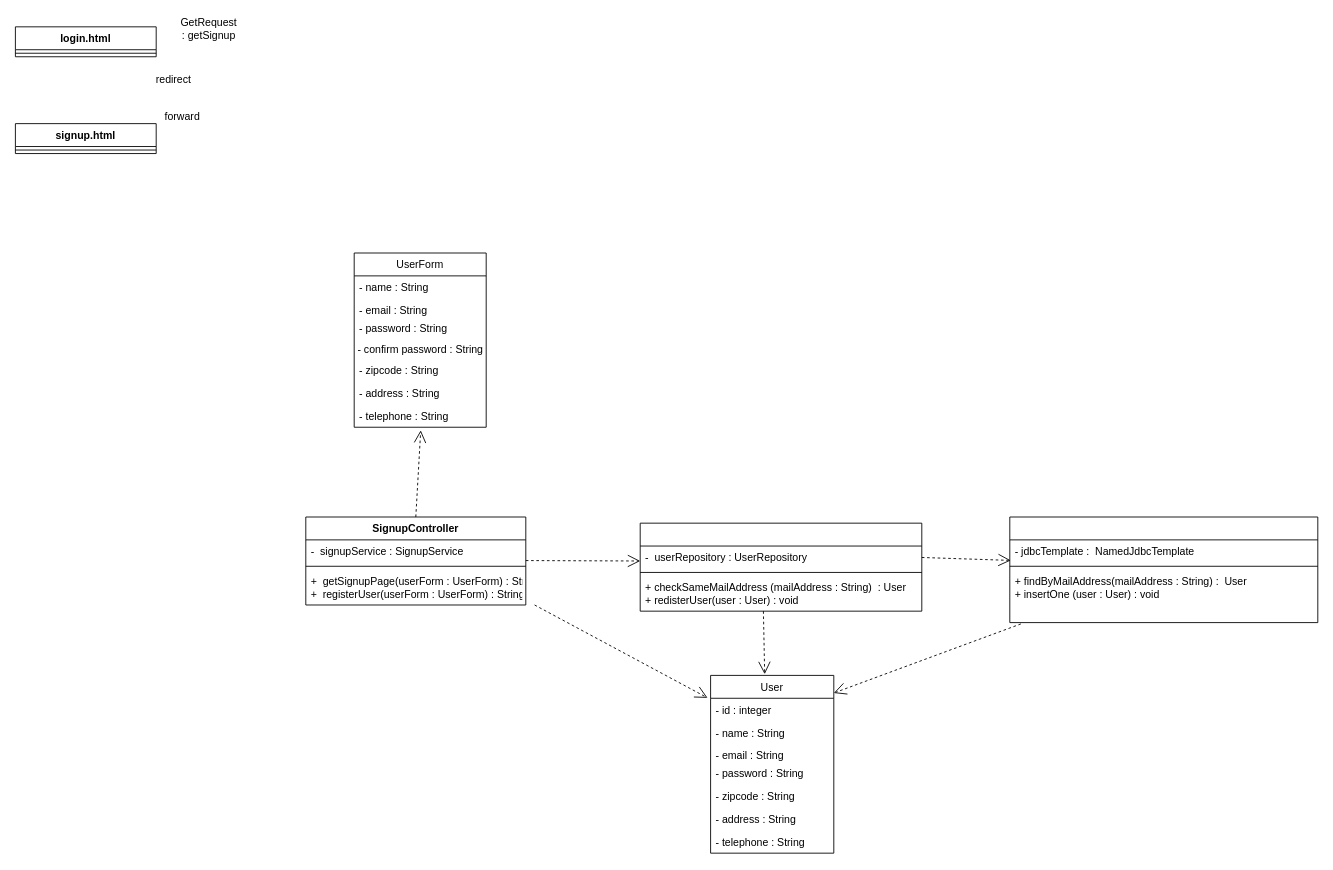
Image size: 1333x870. Some labels were removed from this diagram. The shapes that lost their labels are listed below. From the top down, each one's box as (x1, y1, x2, y2) in pixels, then its label:
(639, 522, 922, 611): SignupService
(1009, 516, 1318, 623): UserRepository
